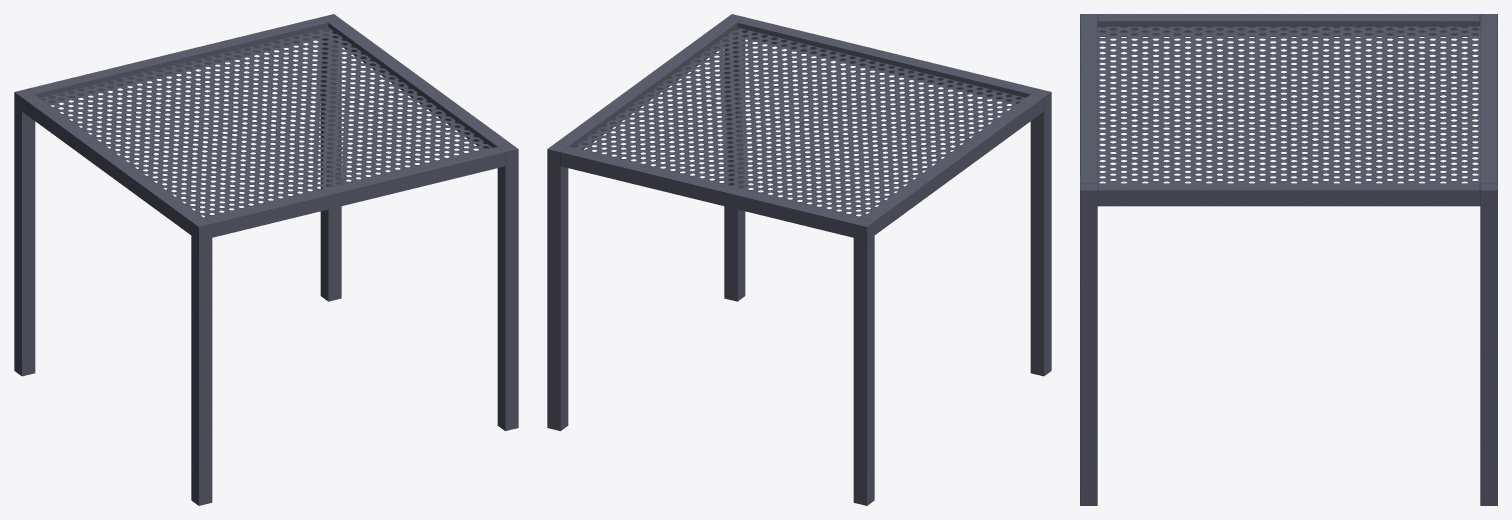
File: Platerform_Metal_04.FBX
3 views of the same model, side by side, from view 1: azimuth 30°, elevation 25°; view 2: azimuth 150°, elevation 25°; view 3: azimuth 270°, elevation 25° (orthographic). The views are drawn at different scales.
Visible parts, largest first — view 1: Platerform_Metal_04; view 2: Platerform_Metal_04; view 3: Platerform_Metal_04.
Part boxes in pixels (x1,y1,x2,y2): Platerform_Metal_04: (14,14,518,505); Platerform_Metal_04: (547,14,1051,505); Platerform_Metal_04: (1080,14,1497,505).
Bounding box in the file's own units: 6 × 5 × 6.
